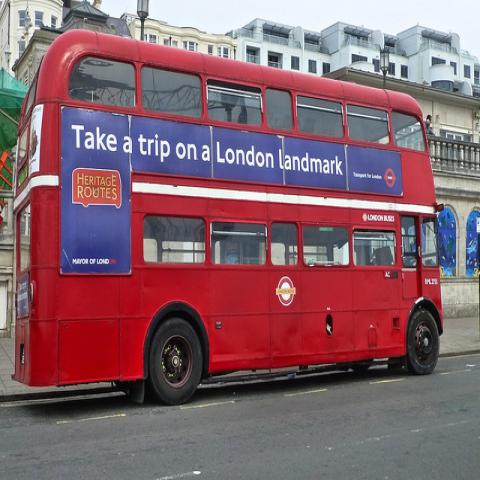bus: (7, 27, 445, 408)
